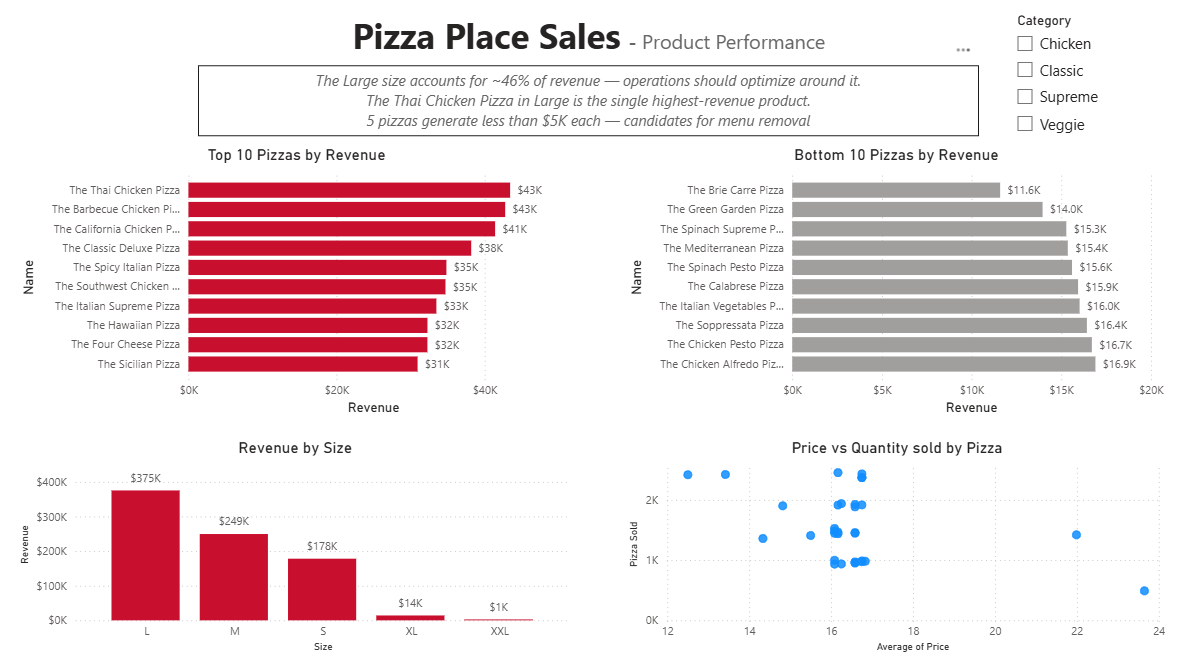

This screenshot's page, from the dashboard's own definition file:
{"tool":"powerbi","page":{"name":"Product Performance","canvas":[1280,720],"ordinal":1},"visuals":[{"type":"textbox","box":[367.8,9.6,542,61.7],"z":0},{"type":"slicer","fields":{"Values":["pizza_types.Category"]},"box":[1089.5,9.6,175.6,148.2],"z":1000},{"type":"clusteredBarChart","title":"Top 10 Pizzas by Revenue","fields":{"Category":["pizza_types.Name"],"Y":["_Measures.Revenue"]},"box":[20.6,158.2,605.1,296.4],"z":2000},{"type":"clusteredBarChart","title":"Bottom 10 Pizzas by Revenue","fields":{"Category":["pizza_types.Name"],"Y":["_Measures.Revenue"]},"box":[676.5,158.2,588.7,296.4],"z":3000},{"type":"clusteredColumnChart","fields":{"Category":["pizzas.Size"],"Y":["_Measures.Revenue"]},"box":[19.2,473.8,605.1,237.4],"z":4000},{"type":"scatterChart","title":"Price vs Quantity sold by Pizza","fields":{"Category":["pizza_types.Name"],"X":["Avg(pizzas.Price)"],"Y":["_Measures.Pizza Sold"]},"box":[676.5,473.8,590.1,237.4],"z":5000},{"type":"textbox","box":[216.8,71.4,843.9,76.8],"z":6000}]}

Visuals, with their boxes in screenshot pixels (x1, y1, x2, y2), scaled from the page's 1280x720 canvas onto the 1180x662 screenshot:
textbox: pyautogui.locateOnScreen(339, 9, 839, 66)
slicer - pizza_types.Category: pyautogui.locateOnScreen(1004, 9, 1166, 145)
"Top 10 Pizzas by Revenue" clusteredBarChart: pyautogui.locateOnScreen(19, 145, 577, 418)
"Bottom 10 Pizzas by Revenue" clusteredBarChart: pyautogui.locateOnScreen(624, 145, 1166, 418)
clusteredColumnChart - pizzas.Size x _Measures.Revenue: pyautogui.locateOnScreen(18, 436, 576, 654)
"Price vs Quantity sold by Pizza" scatterChart: pyautogui.locateOnScreen(624, 436, 1168, 654)
textbox: pyautogui.locateOnScreen(200, 66, 978, 136)
